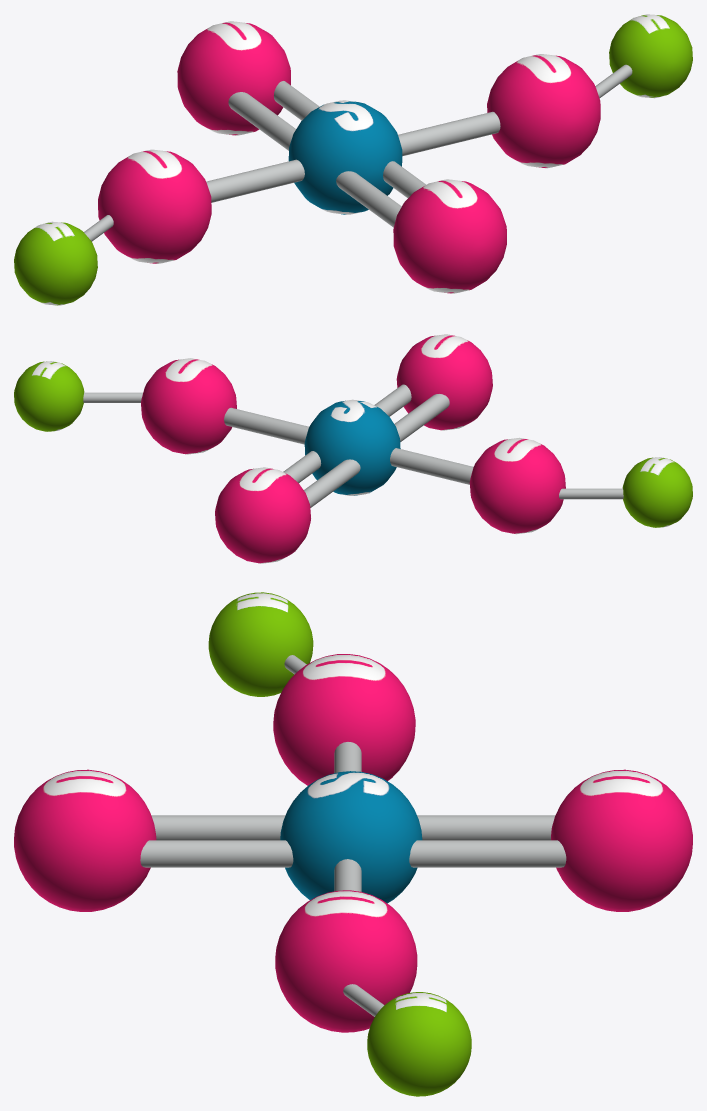
Rendered from SM_Molecule_4.fbx.
3 views of the same model, one above another, from view 1: azimuth 30°, elevation 25°; view 2: azimuth 150°, elevation 25°; view 3: azimuth 270°, elevation 25° (orthographic). The views are drawn at different scales.
Visible parts, largest first — view 1: SM_Molecule_4; view 2: SM_Molecule_4; view 3: SM_Molecule_4.
Part boxes in pixels (x1,y1,x2,y2): SM_Molecule_4: (14,14,692,305); SM_Molecule_4: (14,334,692,563); SM_Molecule_4: (14,592,692,1096).
Bounding box in the file's own units: 407 × 54.87 × 263.
Materials: 4 (4 with a texture image).
